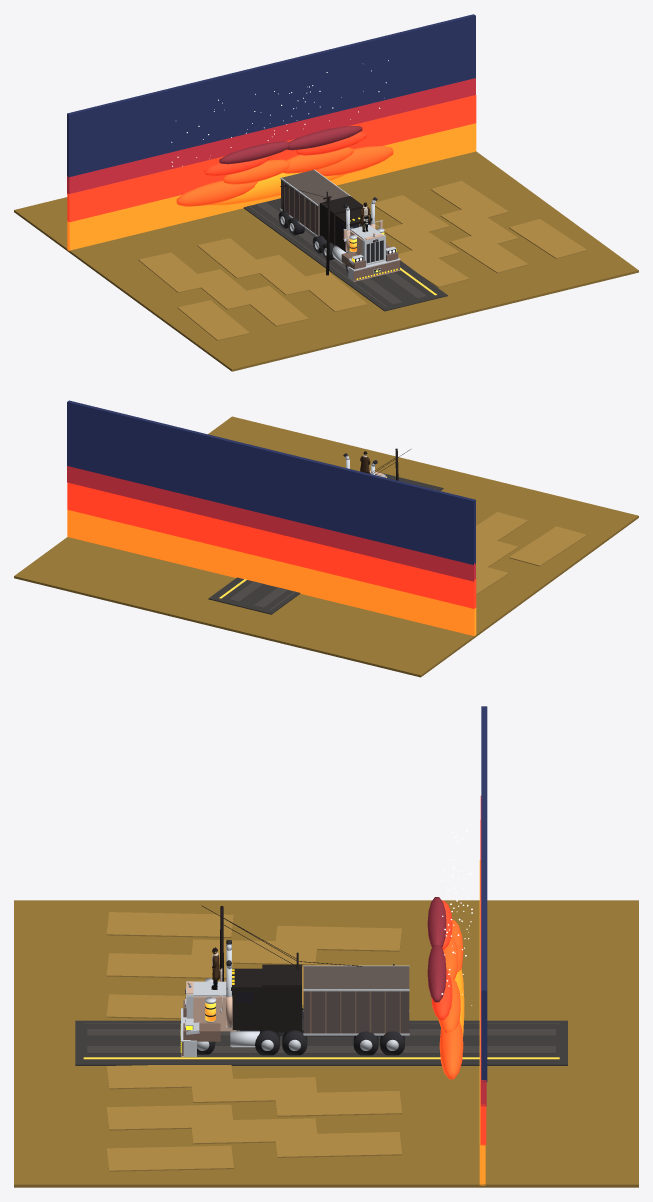
The model's file is eutdm-world.glb.
3 renders of one model, top to bottom at view 1: azimuth 30°, elevation 25°; view 2: azimuth 150°, elevation 25°; view 3: azimuth 270°, elevation 25°, orthographic. The views are drawn at different scales.
Visible parts, largest first — view 1: EutdmDesertHighway, EutdmPeterbiltTruck; view 2: EutdmDesertHighway; view 3: EutdmDesertHighway, EutdmPeterbiltTruck, EutdmTelegraphPoles.
Boxes of the visible parts, x1,y1,x2,y2 form: EutdmDesertHighway: (14,14,638,371); EutdmPeterbiltTruck: (278,169,400,281); EutdmDesertHighway: (14,400,638,677); EutdmDesertHighway: (14,706,638,1187); EutdmPeterbiltTruck: (180,940,409,1056); EutdmTelegraphPoles: (201,905,394,981).
Bounding box in the file's own units: 28 × 9.04 × 26.
